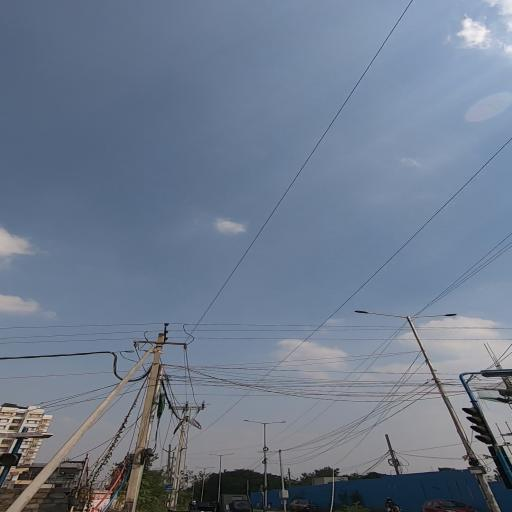Street_light: (349, 308, 404, 320), (410, 311, 461, 323), (267, 419, 291, 427), (239, 418, 261, 426), (220, 451, 235, 457), (207, 464, 222, 470), (206, 451, 217, 458), (193, 464, 204, 470)
